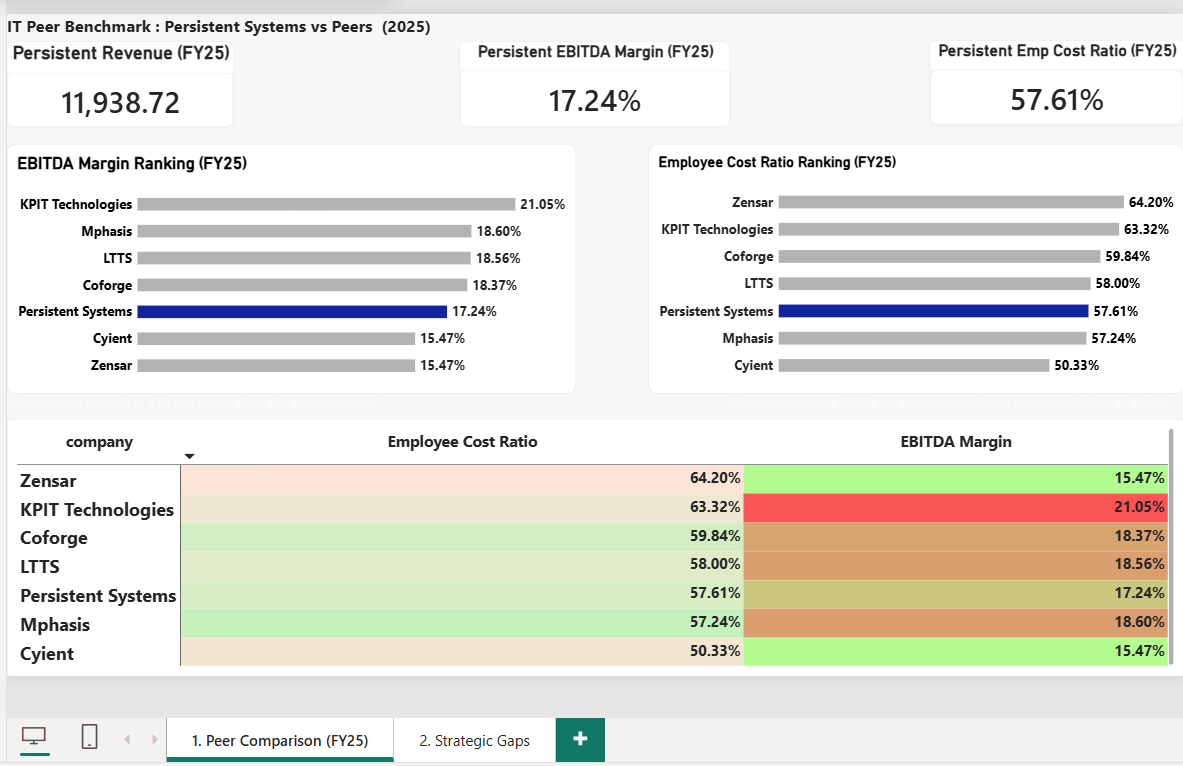

What the dashboard file says about the page in this screenshot:
{"tool":"powerbi","page":{"name":"1. Peer Comparison (FY25)","canvas":[1920,1080],"ordinal":0},"visuals":[{"type":"cardVisual","title":"Persistent Revenue (FY25)","fields":{"Data":["Sum(peer_financials.revenue)"]},"box":[0,44.9,370.5,140],"z":0},{"type":"cardVisual","title":"Persistent EBITDA Margin (FY25)","fields":{"Data":["peer_financials.EBITDA Margin"]},"box":[738,44.9,442.5,140],"z":1},{"type":"cardVisual","title":"Persistent Emp Cost Ratio (FY25)","fields":{"Data":["peer_financials.Employee Cost Ratio"]},"box":[1504.5,42.8,415.8,140],"z":2},{"type":"clusteredBarChart","title":"EBITDA Margin Ranking (FY25)","fields":{"Category":["peer_financials.company"],"Y":["peer_financials.EBITDA Margin"]},"box":[0,212,928.3,407.5],"z":3},{"type":"clusteredBarChart","title":"Employee Cost Ratio Ranking (FY25)","fields":{"Category":["peer_financials.company"],"Y":["peer_financials.Employee Cost Ratio"]},"box":[1045.8,212,874.8,407.5],"z":4},{"type":"pivotTable","fields":{"Rows":["peer_financials.company"],"Values":["peer_financials.Employee Cost Ratio","peer_financials.EBITDA Margin"]},"box":[0,660.5,1920.4,420],"z":5},{"type":"textbox","box":[0,0,703.3,44.9],"z":6},{"type":"textbox","box":[0,619.8,927.6,40.8],"z":7},{"type":"textbox","box":[1180.4,619.8,740,40.8],"z":8}]}

Visuals, with their boxes on the page's 1920x1080 design canvas (x1, y1, x2, y2). These are canvas units, not pixel positions in the 1183x766 screenshot, which may show the page scaled, cropped or inside an application window:
"Persistent Revenue (FY25)" cardVisual: left=0, top=45, right=370, bottom=185
"Persistent EBITDA Margin (FY25)" cardVisual: left=738, top=45, right=1180, bottom=185
"Persistent Emp Cost Ratio (FY25)" cardVisual: left=1504, top=43, right=1920, bottom=183
"EBITDA Margin Ranking (FY25)" clusteredBarChart: left=0, top=212, right=928, bottom=620
"Employee Cost Ratio Ranking (FY25)" clusteredBarChart: left=1046, top=212, right=1921, bottom=620
pivotTable - peer_financials.company x peer_financials.Employee Cost Ratio: left=0, top=660, right=1920, bottom=1080
textbox: left=0, top=0, right=703, bottom=45
textbox: left=0, top=620, right=928, bottom=661
textbox: left=1180, top=620, right=1920, bottom=661
